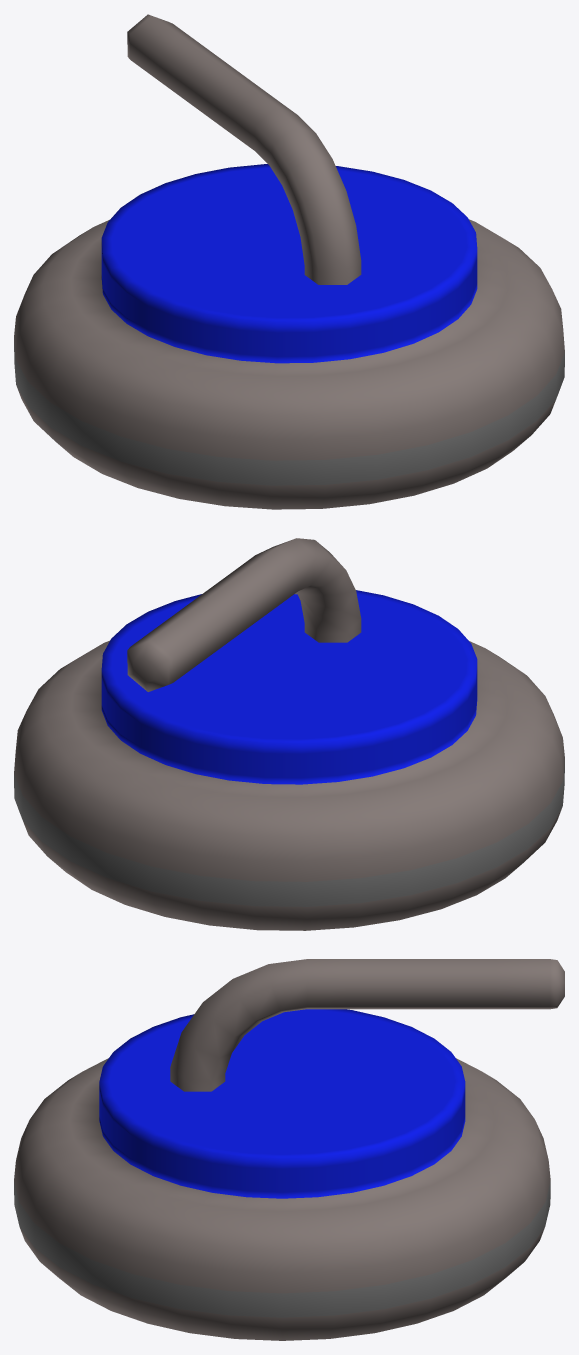
File: O_prop.fbx
3 views of the same model, one above another, from view 1: azimuth 30°, elevation 25°; view 2: azimuth 150°, elevation 25°; view 3: azimuth 270°, elevation 25° (orthographic). The views are drawn at different scales.
Visible parts, largest first — view 1: Cylinder; view 2: Cylinder; view 3: Cylinder.
Part boxes in pixels (x1,y1,x2,y2): Cylinder: (14, 14, 564, 509); Cylinder: (14, 538, 564, 930); Cylinder: (14, 959, 564, 1340).
Size of the model in its own units: 221 by 135 by 227.
